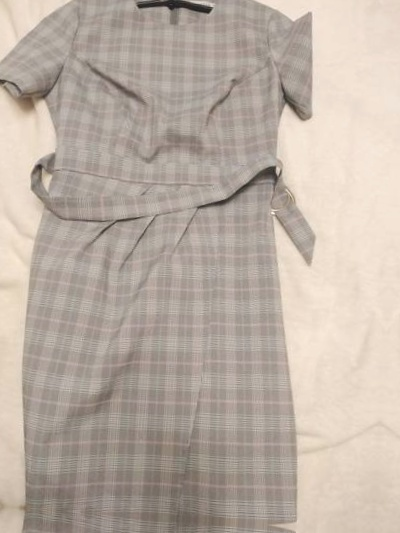Dress: (0, 0, 363, 524), (0, 509, 325, 533)
